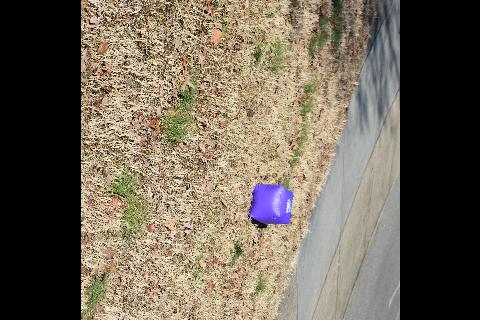cube: (247, 184, 293, 226)
